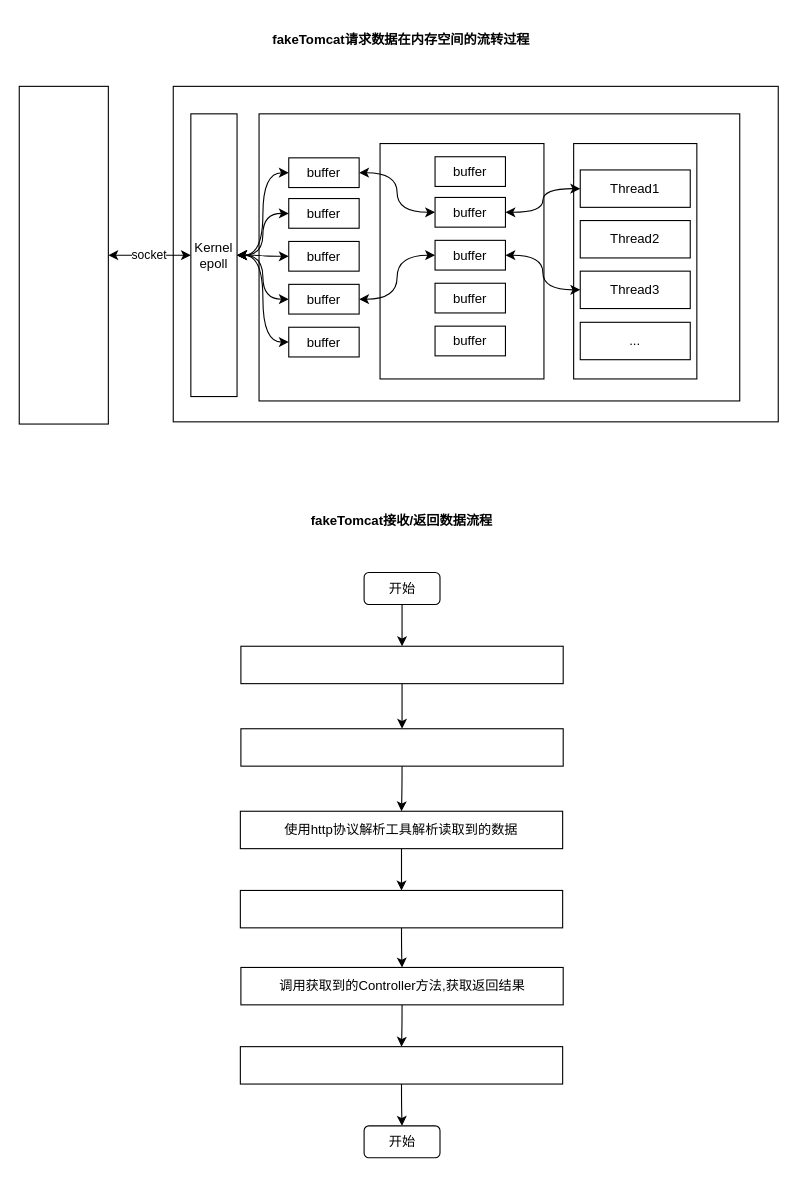
This 798x1177 diagram has some shape labels left out. Here are the shapes that lost their labels. From the top down, the box of each, then its label:
(18, 85, 108, 424): http 客户端 可以是: 浏览器, POSTMAN, HttpClinet...
(379, 142, 544, 379): JVM堆
(172, 85, 778, 422): Server端
(258, 113, 740, 401): Java进程(fakeTomcat)进程内存空间
(573, 142, 697, 379): JVM栈
(240, 645, 563, 684): server端调用Selector.select()获取可读取的socket
(240, 728, 563, 766): 从可读取的socket中读取数据
(239, 889, 563, 928): 根据解析到的URL,Parma等数据,获取Controller的Method
(239, 1046, 563, 1084): 返回结果序列化成字节数组,并通过原socket发送
